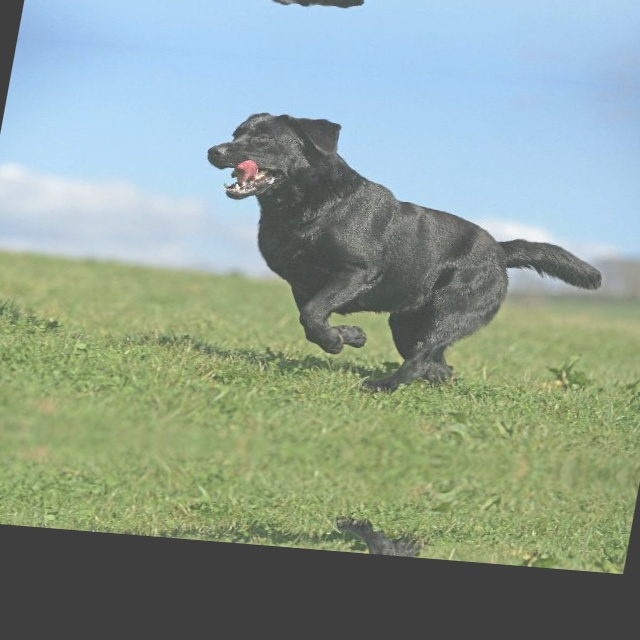dog: (172, 93, 362, 223), (208, 0, 388, 24)
